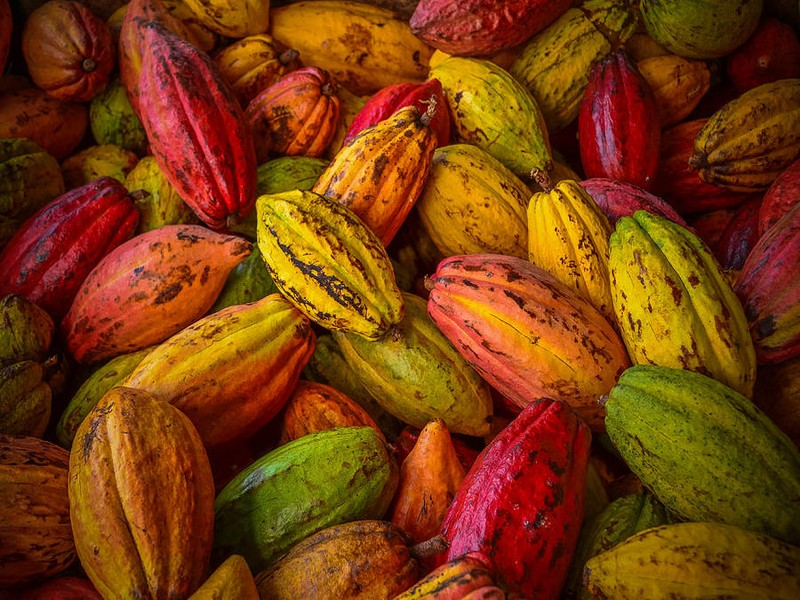Cacaopod: (421, 257, 625, 418), (64, 387, 211, 600), (131, 23, 260, 223), (254, 189, 403, 342)
